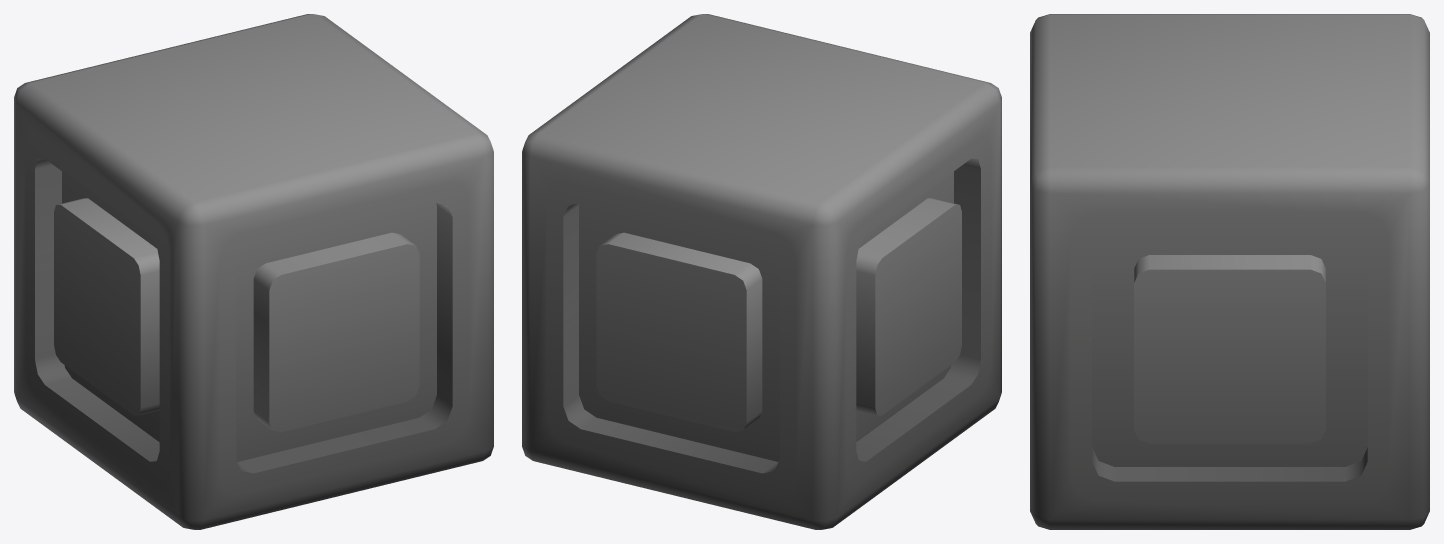
Rendered from 3D_Tile_Dungeon_03.fbx.
The picture shows the model from 3 angles, left to right: view 1: azimuth 30°, elevation 25°; view 2: azimuth 150°, elevation 25°; view 3: azimuth 270°, elevation 25°; orthographic projection. The views are drawn at different scales.
Visible parts, largest first — view 1: 3D_Tile_Dungeon_03; view 2: 3D_Tile_Dungeon_03; view 3: 3D_Tile_Dungeon_03.
Boxes of the visible parts, x1,y1,x2,y2 form: 3D_Tile_Dungeon_03: (14,14,493,529); 3D_Tile_Dungeon_03: (522,14,1001,529); 3D_Tile_Dungeon_03: (1030,14,1429,529).
Bounding box in the file's own units: 200 × 200 × 200.
